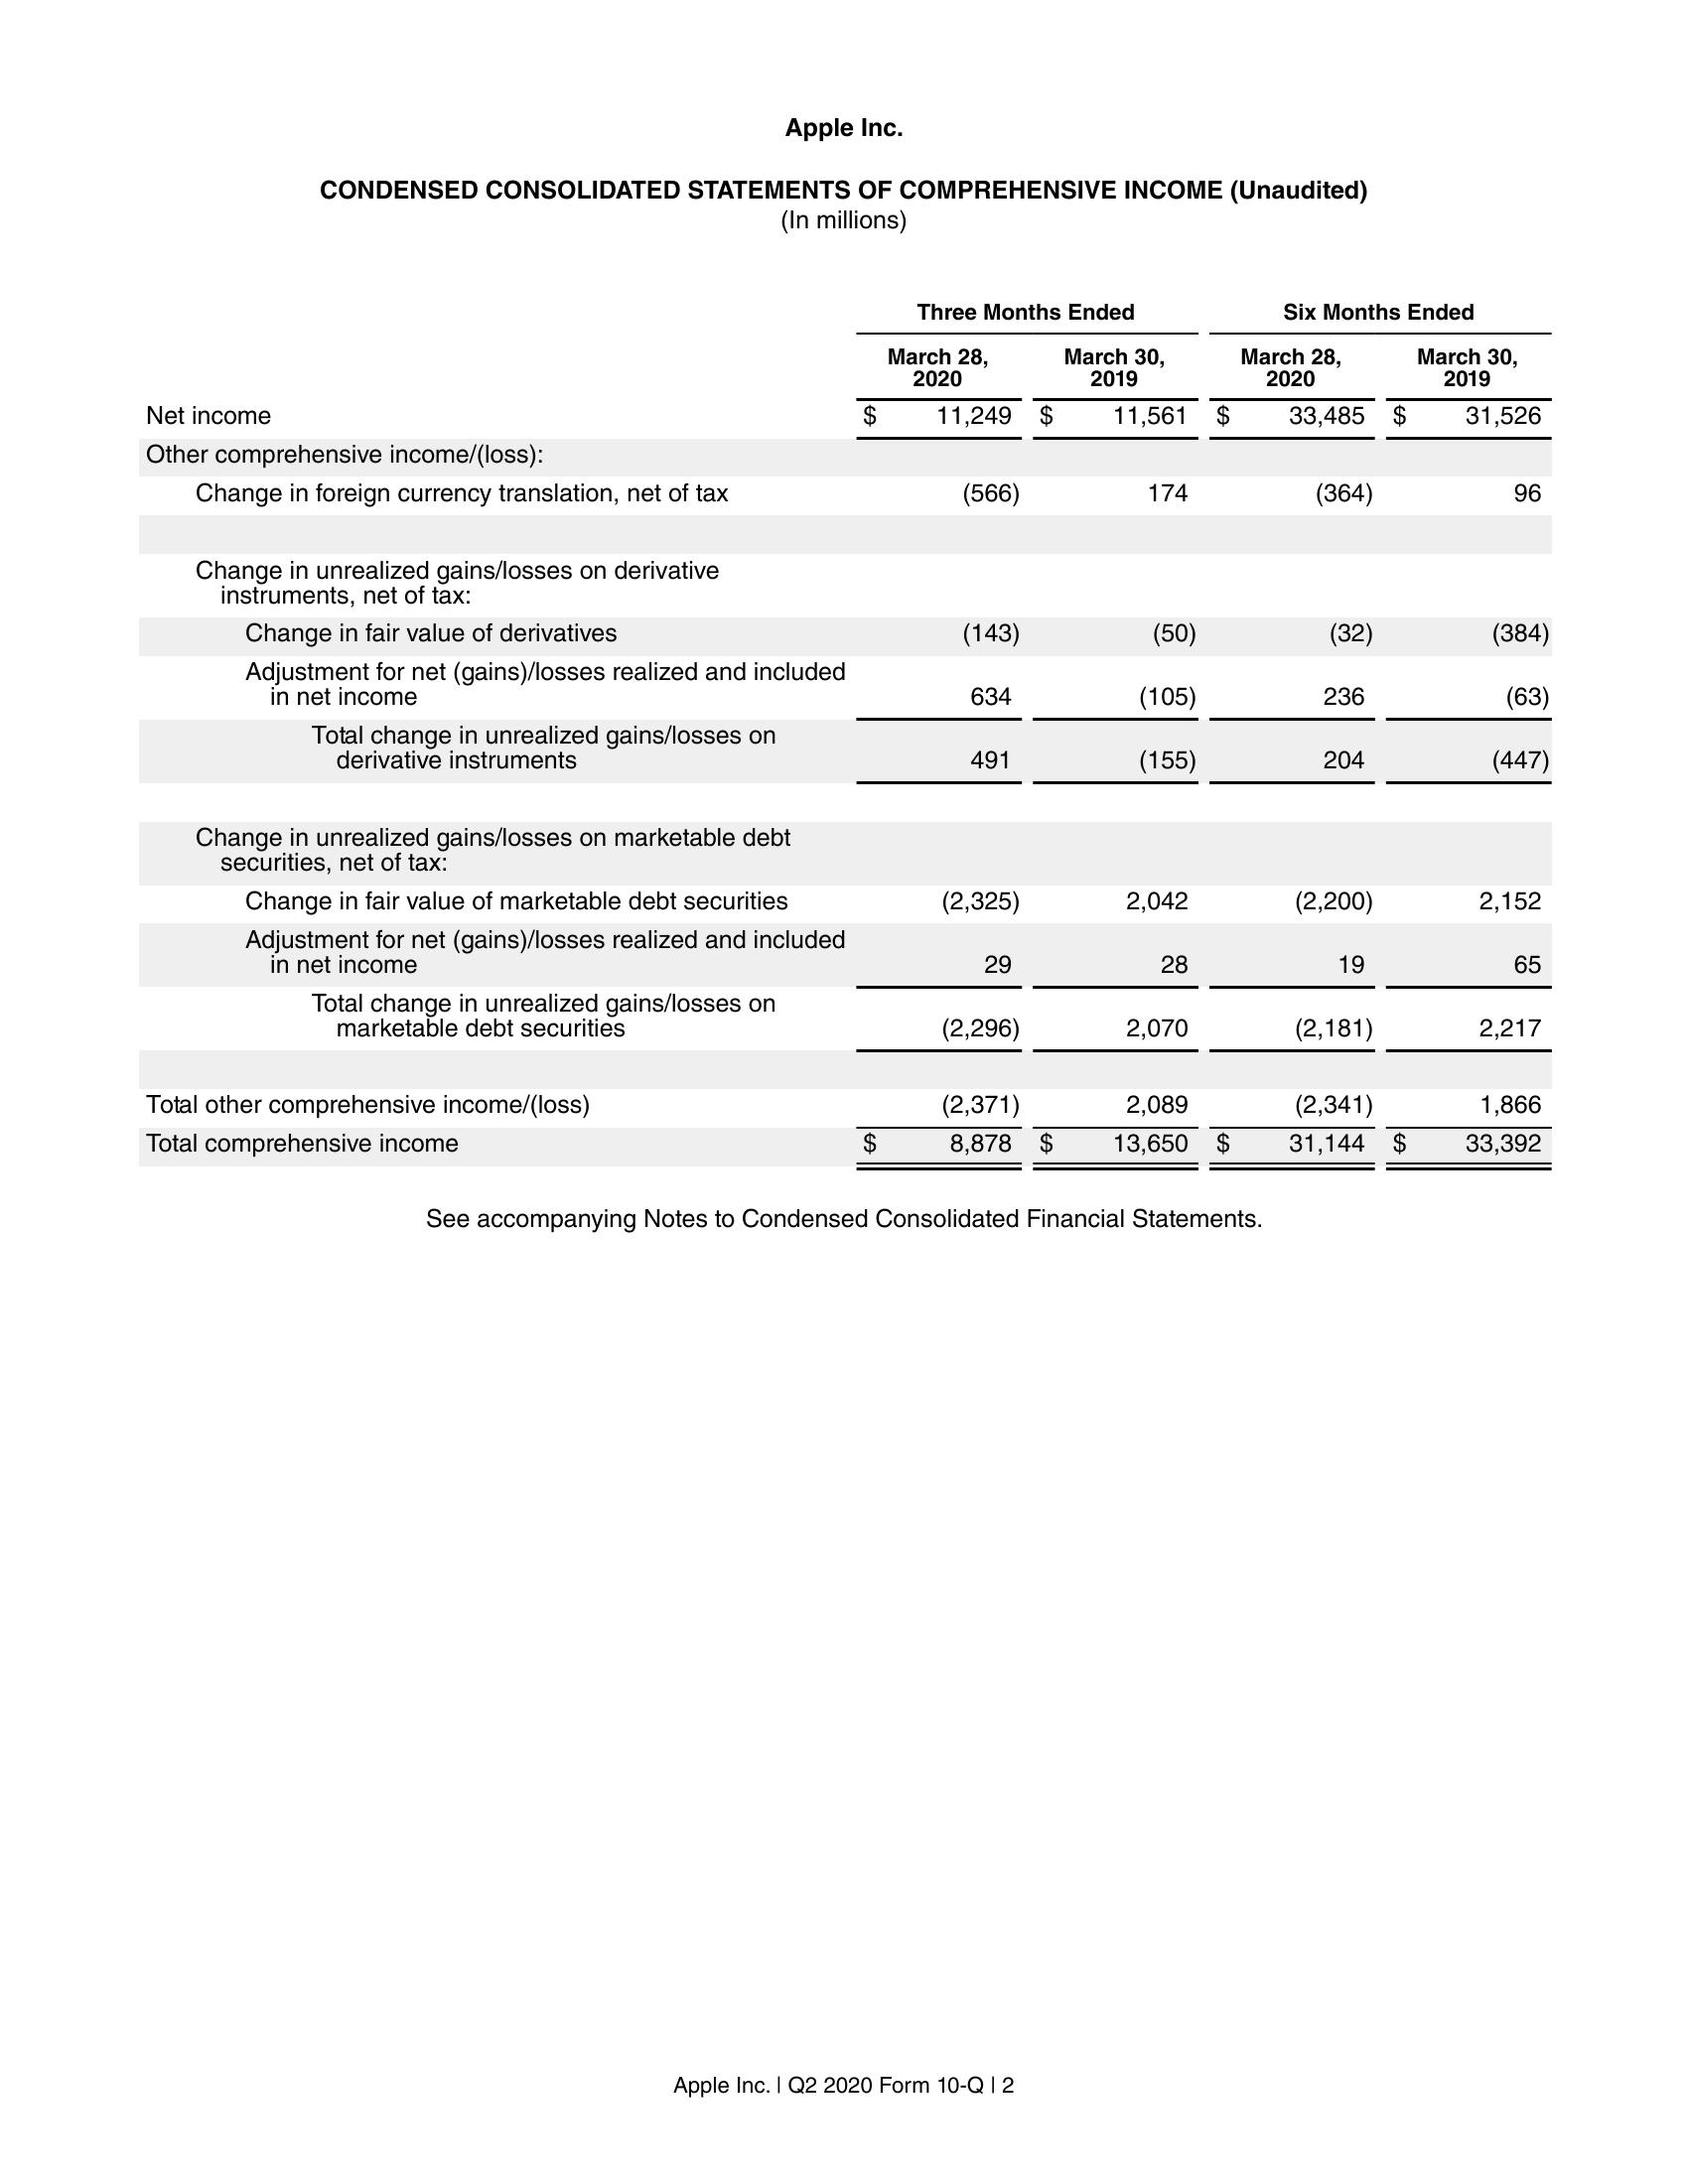table: (126, 294, 1564, 1181)
